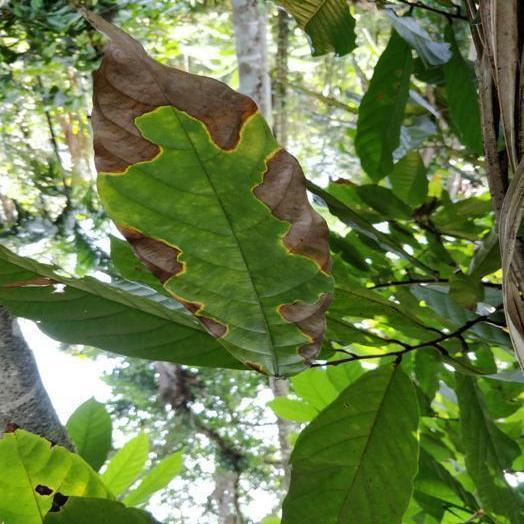Potassium: (89, 16, 332, 375)
